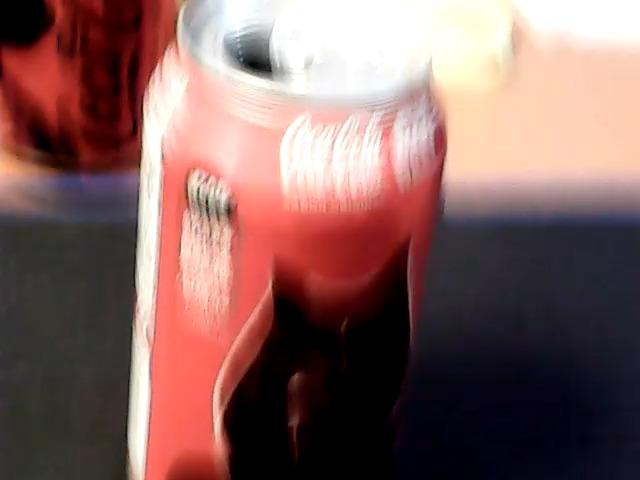coke: (125, 0, 445, 479), (2, 0, 173, 170)
